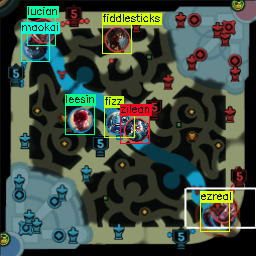ezreal: (201, 207, 226, 228)
fiddlesticks: (104, 26, 131, 52)
fizz: (106, 111, 130, 135)
leesin: (68, 108, 94, 132)
lucian: (30, 17, 56, 44)
maokai: (23, 36, 48, 60)
rakan: (211, 198, 236, 222)
sett: (212, 206, 236, 228)
zilean: (124, 118, 150, 143)
